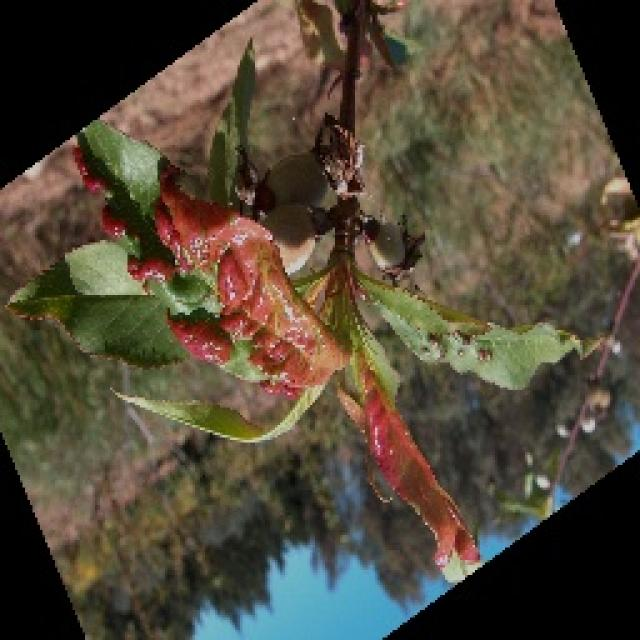peach_leaf_curl: (137, 160, 360, 465)
